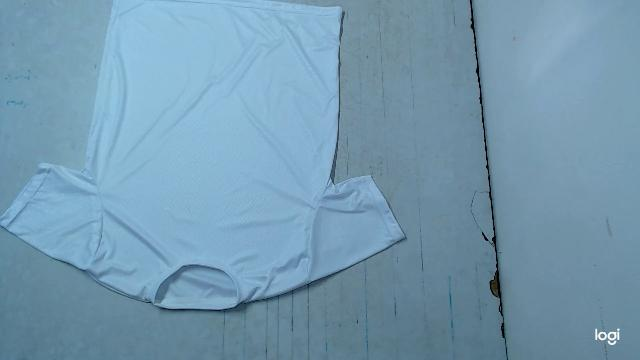new-garment: (0, 0, 404, 309)
